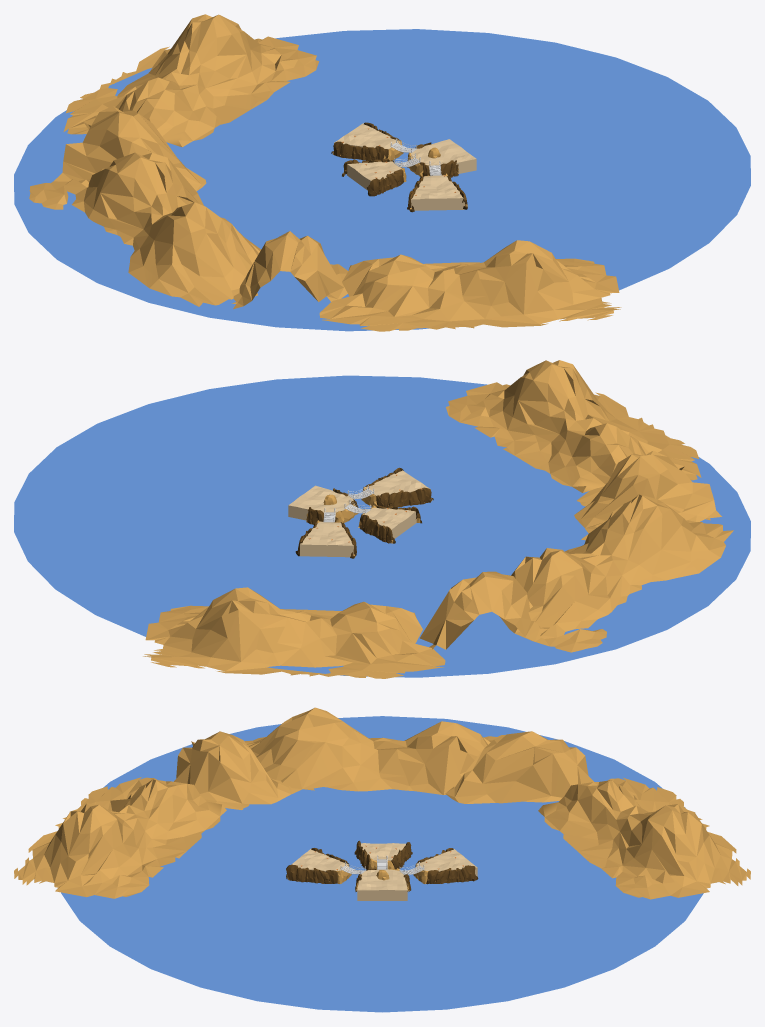
File: arena.fbx
3 renders of one model, top to bottom at view 1: azimuth 30°, elevation 25°; view 2: azimuth 150°, elevation 25°; view 3: azimuth 270°, elevation 25°, orthographic. The views are drawn at different scales.
Visible parts, largest first — view 1: Arena.114, mountain.001, mountain, mountain.003, mountain.004, mountain.002, Arena.002, Arena.004, rock.002, Arena.001, Arena.003, rock.001 (+1 smaller); view 2: Arena.114, mountain.003, mountain, mountain.001, mountain.002, mountain.004, Arena.003, Arena.004, rock.022, Arena.001, Arena.002, rock.001 (+1 smaller); view 3: Arena.114, mountain.003, mountain.001, mountain, mountain.004, mountain.002, Arena.004, rock.022, rock.002, Arena.003, Arena.002, rock.001 (+1 smaller).
Boxes of the visible parts, bbox=[...] form: Arena.114: bbox=[14, 29, 750, 331]; mountain.001: bbox=[319, 240, 621, 331]; mountain: bbox=[29, 152, 261, 306]; mountain.003: bbox=[63, 14, 318, 147]; mountain.004: bbox=[54, 106, 206, 191]; mountain.002: bbox=[231, 231, 348, 309]; Arena.002: bbox=[411, 175, 464, 210]; Arena.004: bbox=[411, 139, 476, 173]; rock.002: bbox=[331, 122, 403, 160]; Arena.001: bbox=[347, 161, 401, 190]; Arena.003: bbox=[334, 123, 398, 149]; rock.001: bbox=[342, 158, 406, 196]; Arena.114: bbox=[14, 375, 750, 677]; mountain.003: bbox=[143, 587, 445, 678]; mountain: bbox=[499, 494, 733, 652]; mountain.001: bbox=[446, 360, 701, 492]; mountain.002: bbox=[574, 450, 721, 533]; mountain.004: bbox=[420, 571, 548, 649]; Arena.003: bbox=[300, 521, 353, 557]; Arena.004: bbox=[288, 485, 354, 520]; rock.022: bbox=[361, 467, 433, 507]; Arena.001: bbox=[363, 507, 416, 538]; Arena.002: bbox=[366, 470, 430, 495]; rock.001: bbox=[358, 505, 421, 543]; Arena.114: bbox=[61, 716, 703, 1012]; mountain.003: bbox=[538, 778, 750, 899]; mountain.001: bbox=[14, 777, 226, 898]; mountain: bbox=[244, 707, 504, 794]; mountain.004: bbox=[445, 731, 593, 803]; mountain.002: bbox=[174, 731, 301, 809]; Arena.004: bbox=[357, 869, 407, 900]; rock.022: bbox=[286, 848, 351, 883]; rock.002: bbox=[413, 848, 478, 884]; Arena.003: bbox=[416, 849, 477, 876]; Arena.002: bbox=[287, 849, 348, 878]; rock.001: bbox=[354, 840, 412, 869].
Bounding box in the file's own units: 37508 × 3796 × 39409.
